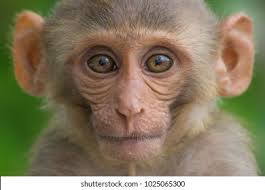monkey: (15, 0, 225, 166)
